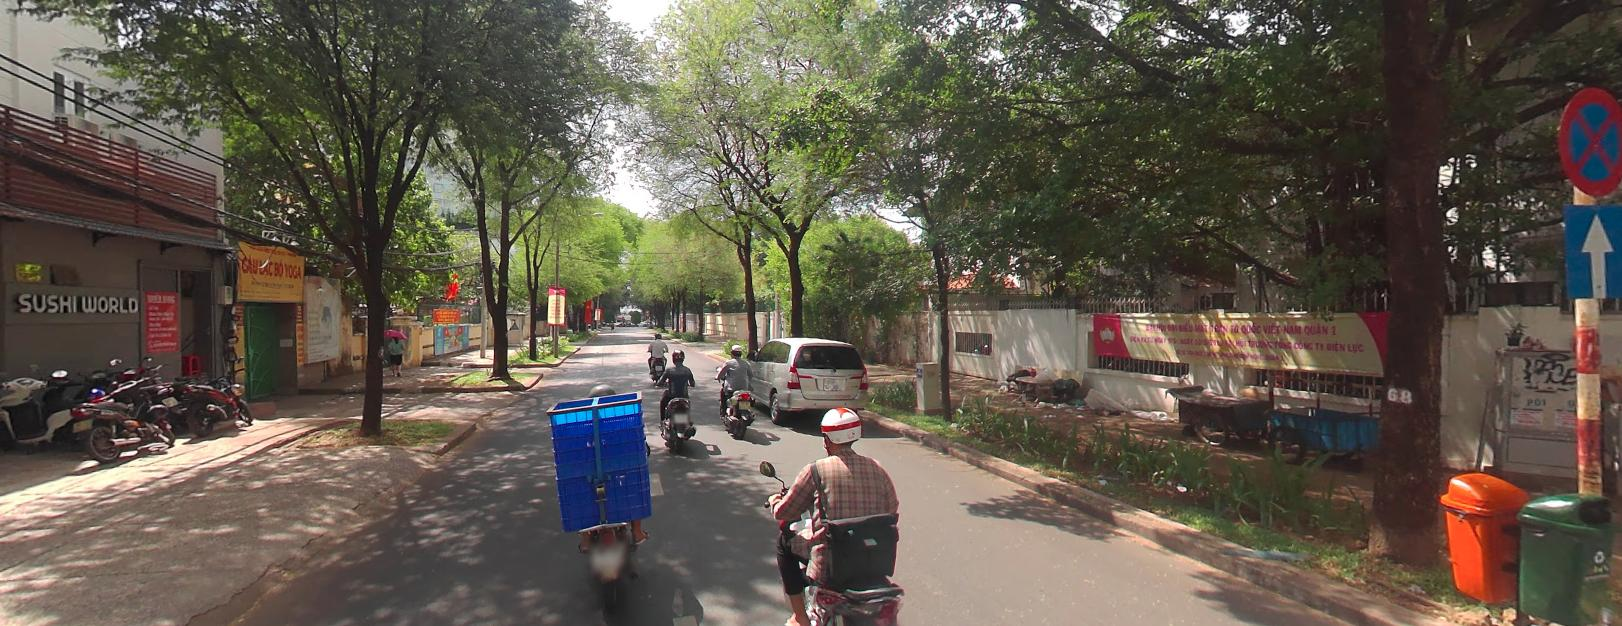Cam dung va do: (1559, 85, 1621, 197)
